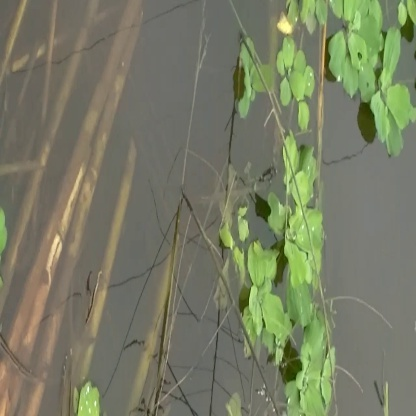branch: (18, 4, 140, 401)
